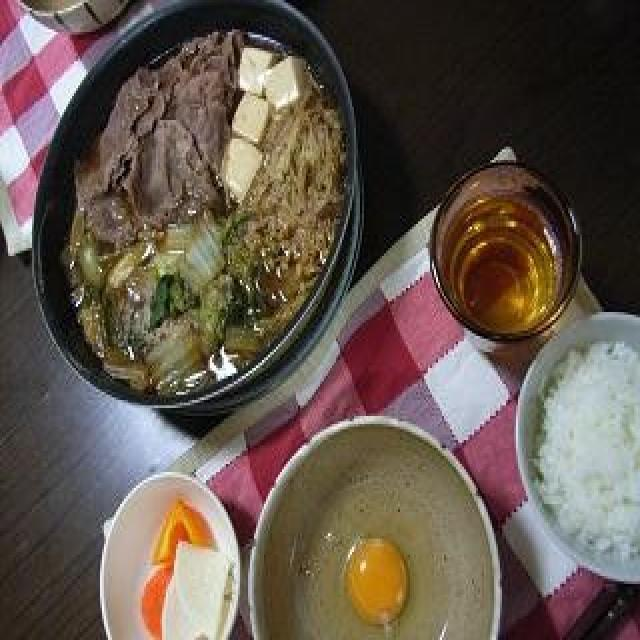Rice: (536, 347, 640, 572)
